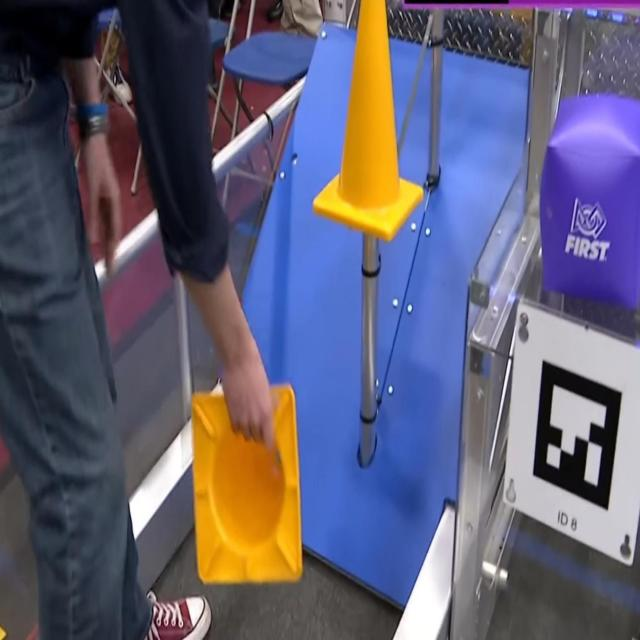frc_cone: (312, 0, 423, 244), (193, 384, 304, 587)
frc_cube: (540, 90, 640, 310)
